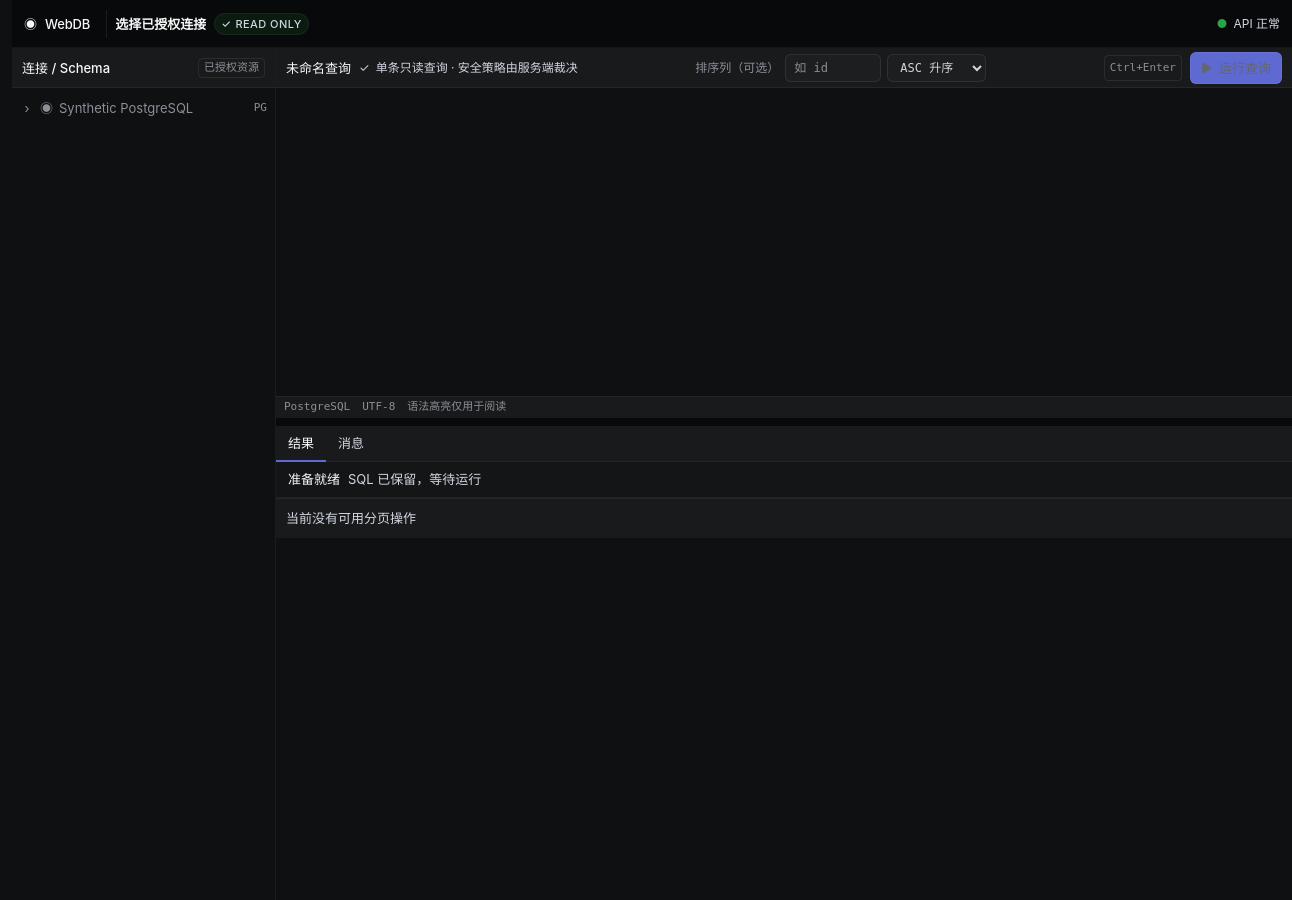
Test: P0 workbench › clears pagination when the sort order changes after a paginated run
The image size is (1292, 900).
Click the list item "› ◉ Synthetic PostgreSQL PG": click(144, 108) [12, 94, 275, 122]
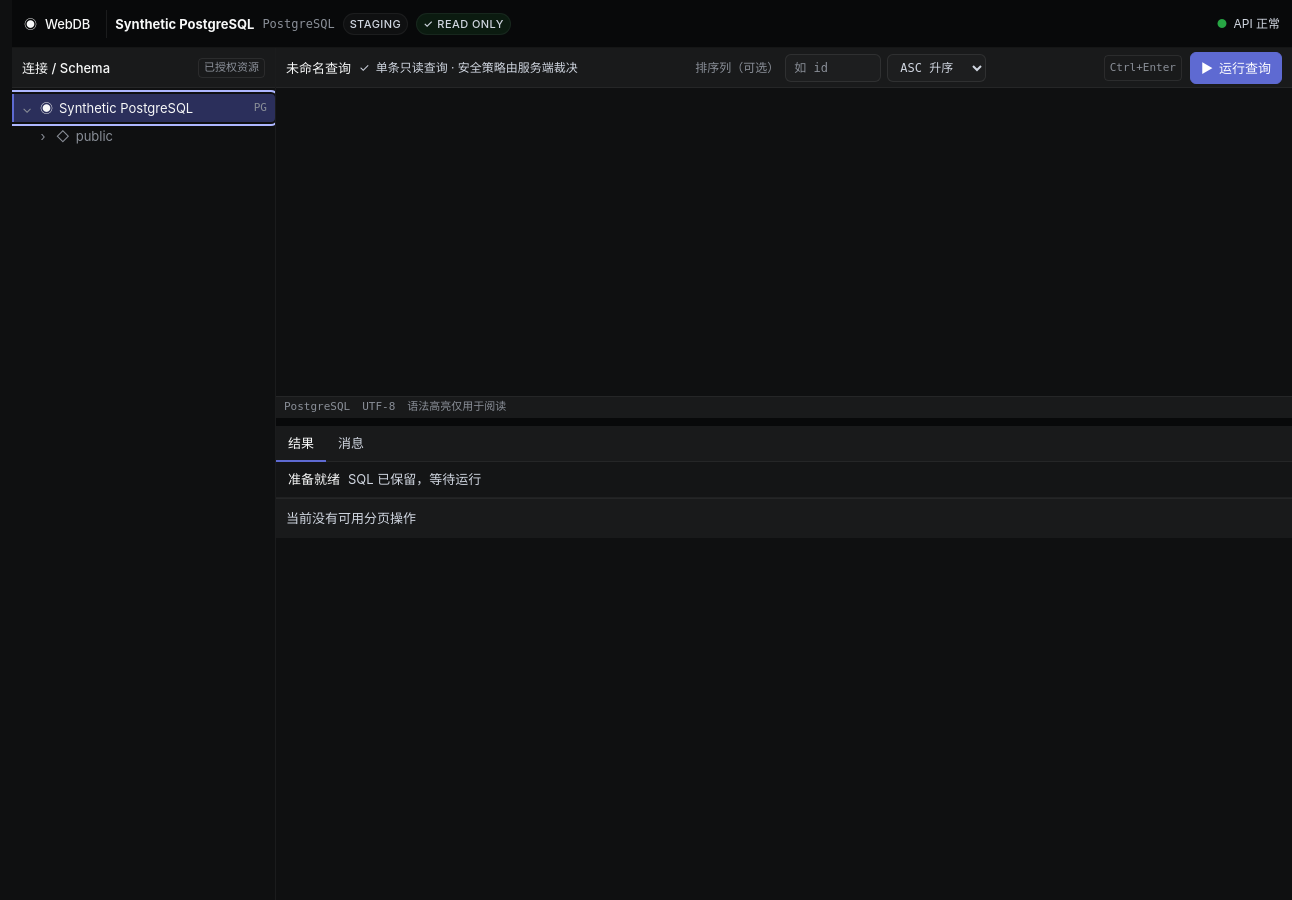
Click the button "▶ 运行查询": click(1236, 68) [1190, 52, 1282, 84]
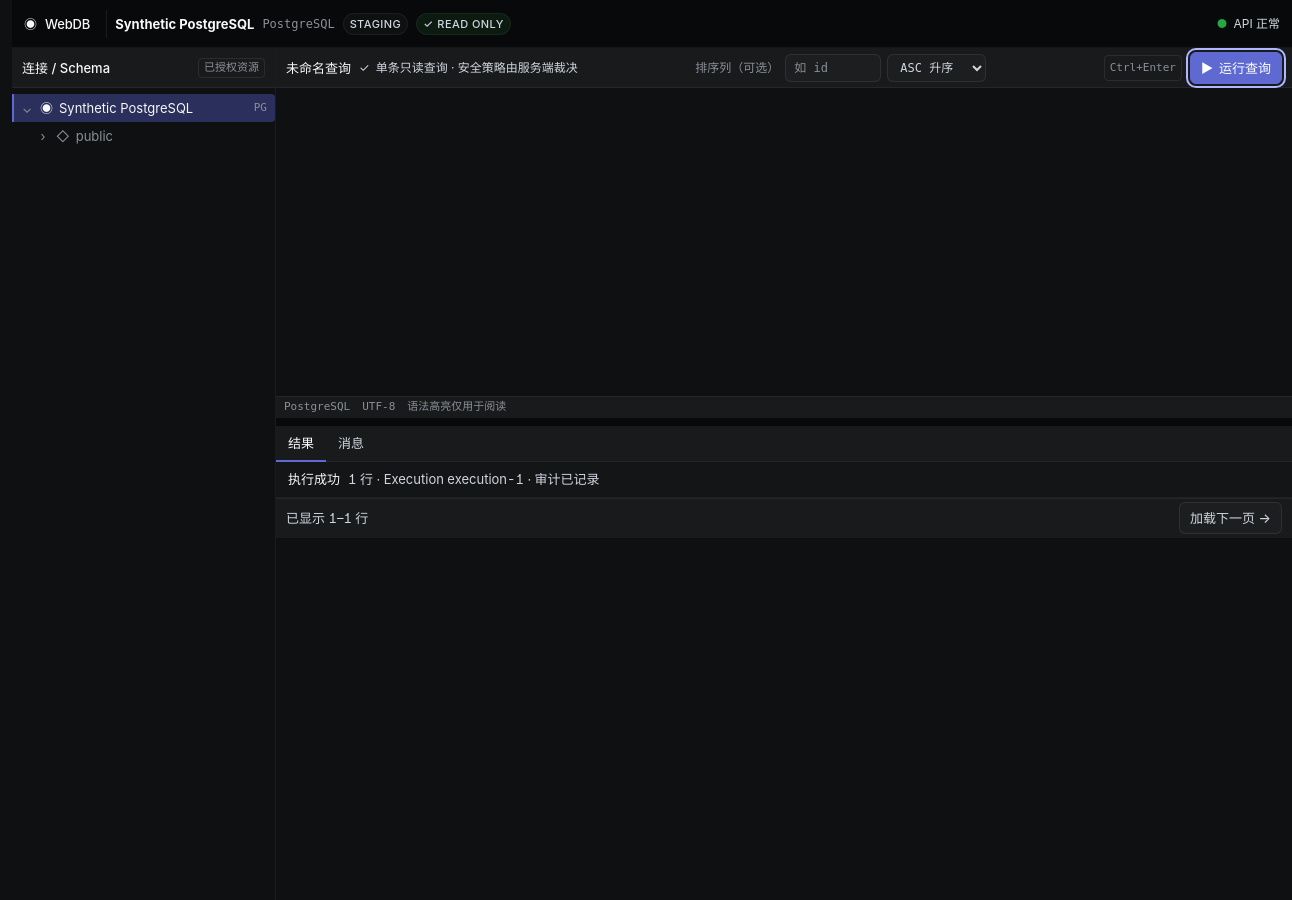
Now the button "加载下一页 →" is shown, box [1179, 502, 1282, 534]
Select "DESC 降序" in the dropdown named "排序方向": (937, 68) [887, 54, 986, 82]
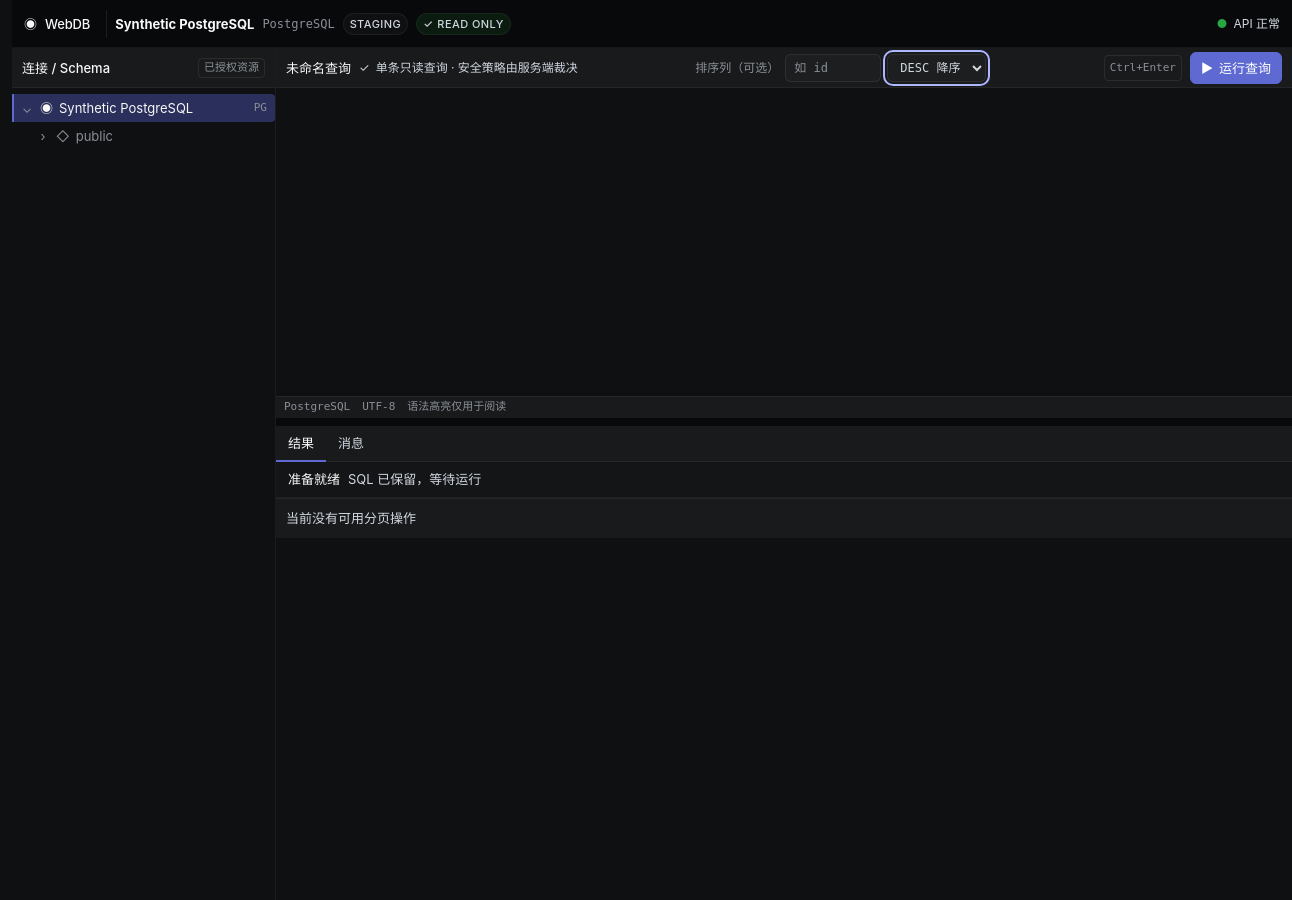
Now the button "加载下一页" is gone
